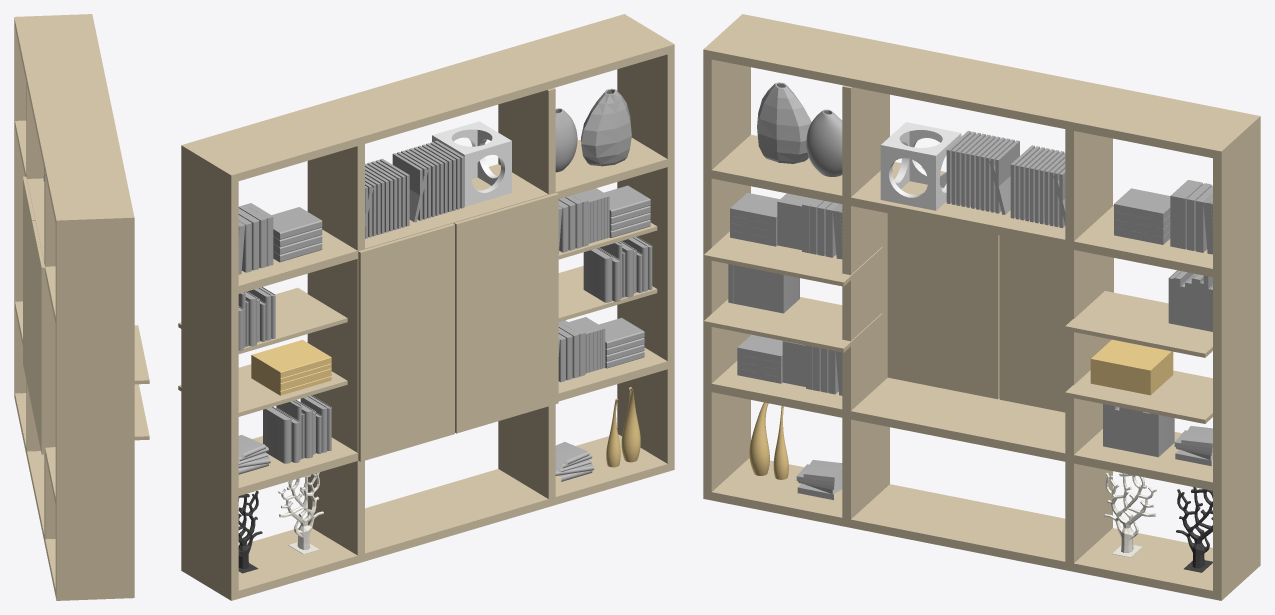
File: bookshkaf.glb
3 views of the same model, side by side, from view 1: azimuth 30°, elevation 25°; view 2: azimuth 150°, elevation 25°; view 3: azimuth 270°, elevation 25° (orthographic). The views are drawn at different scales.
Parts seen in each view (by area): view 1: Rectangle48, Rectangle54, Rectangle55; view 2: Rectangle48, books_obj_58, Box01.002, Rectangle12, Rectangle52, Rectangle55, Circle230, Box402, books_obj_101, books_obj_11, books_obj_70, books_obj_47 (+9 smaller); view 3: Rectangle48, Rectangle12, Rectangle55, Rectangle52, Rectangle54, books_obj_58, Box01.002, Circle200, Box01.001, Box402, Box03, books_obj_46 (+10 smaller).
Boxes of the visible parts, x1,y1,x2,y2 form: Rectangle48: (14, 14, 134, 600); Rectangle54: (134, 325, 149, 384); Rectangle55: (134, 384, 149, 440); Rectangle48: (181, 14, 674, 600); books_obj_58: (251, 340, 331, 395); Box01.002: (581, 88, 631, 166); Rectangle12: (178, 287, 347, 353); Rectangle52: (178, 364, 347, 416); Rectangle55: (558, 266, 657, 321); Circle230: (464, 141, 511, 206); Box402: (278, 472, 323, 549); books_obj_101: (583, 248, 612, 302); books_obj_11: (263, 406, 291, 463); books_obj_70: (578, 188, 609, 243); books_obj_47: (568, 317, 605, 373); Rectangle48: (703, 14, 1260, 600); Rectangle12: (1065, 291, 1212, 357); Rectangle55: (704, 297, 882, 352); Rectangle52: (1065, 370, 1212, 423); Rectangle54: (703, 231, 882, 286); books_obj_58: (1090, 339, 1173, 395); Box01.002: (757, 82, 811, 163); Circle200: (880, 145, 935, 210); Box01.001: (806, 109, 842, 176); Box402: (1104, 472, 1156, 552); Box03: (1176, 487, 1212, 568); books_obj_46: (1114, 188, 1170, 221).
Size of the model in its own units: 1.46 by 2.14 by 2.41.
